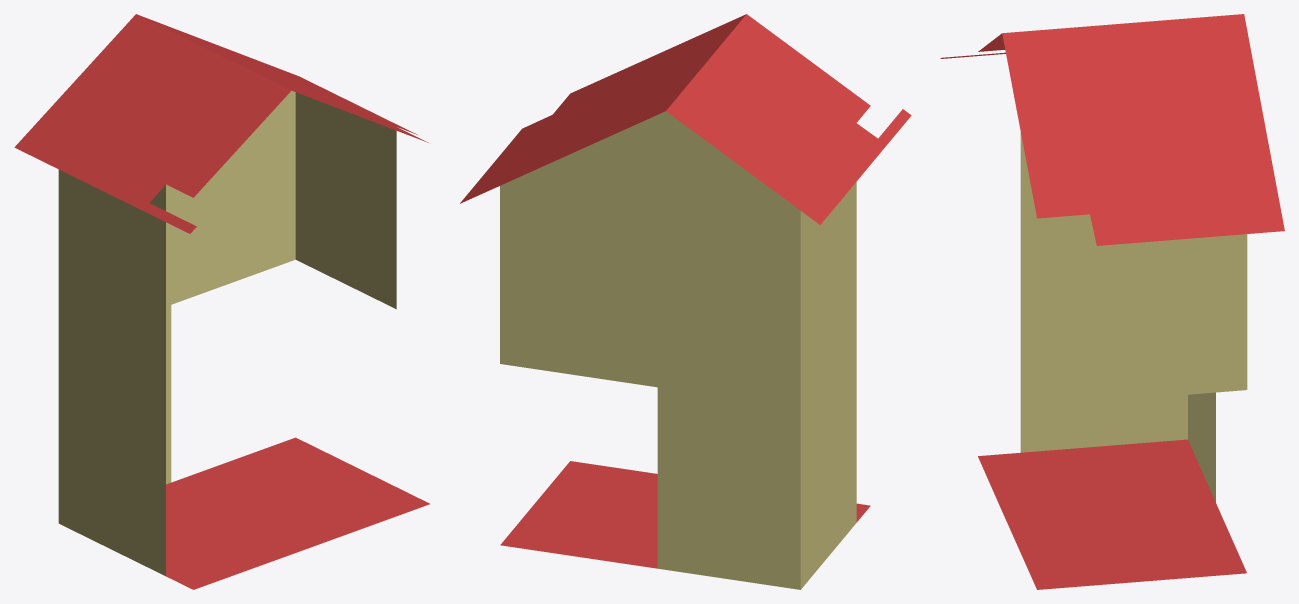
The picture shows the model from 3 angles, left to right: view 1: azimuth 30°, elevation 25°; view 2: azimuth 150°, elevation 25°; view 3: azimuth 270°, elevation 25°; orthographic projection. The views are drawn at different scales.
Size of the model in its own units: 12.85 by 10.67 by 16.32.
